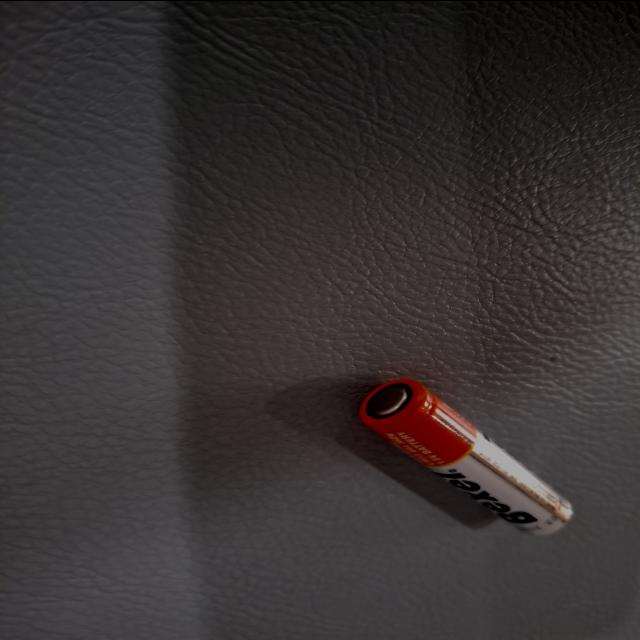AAA: (502, 212, 640, 373)
